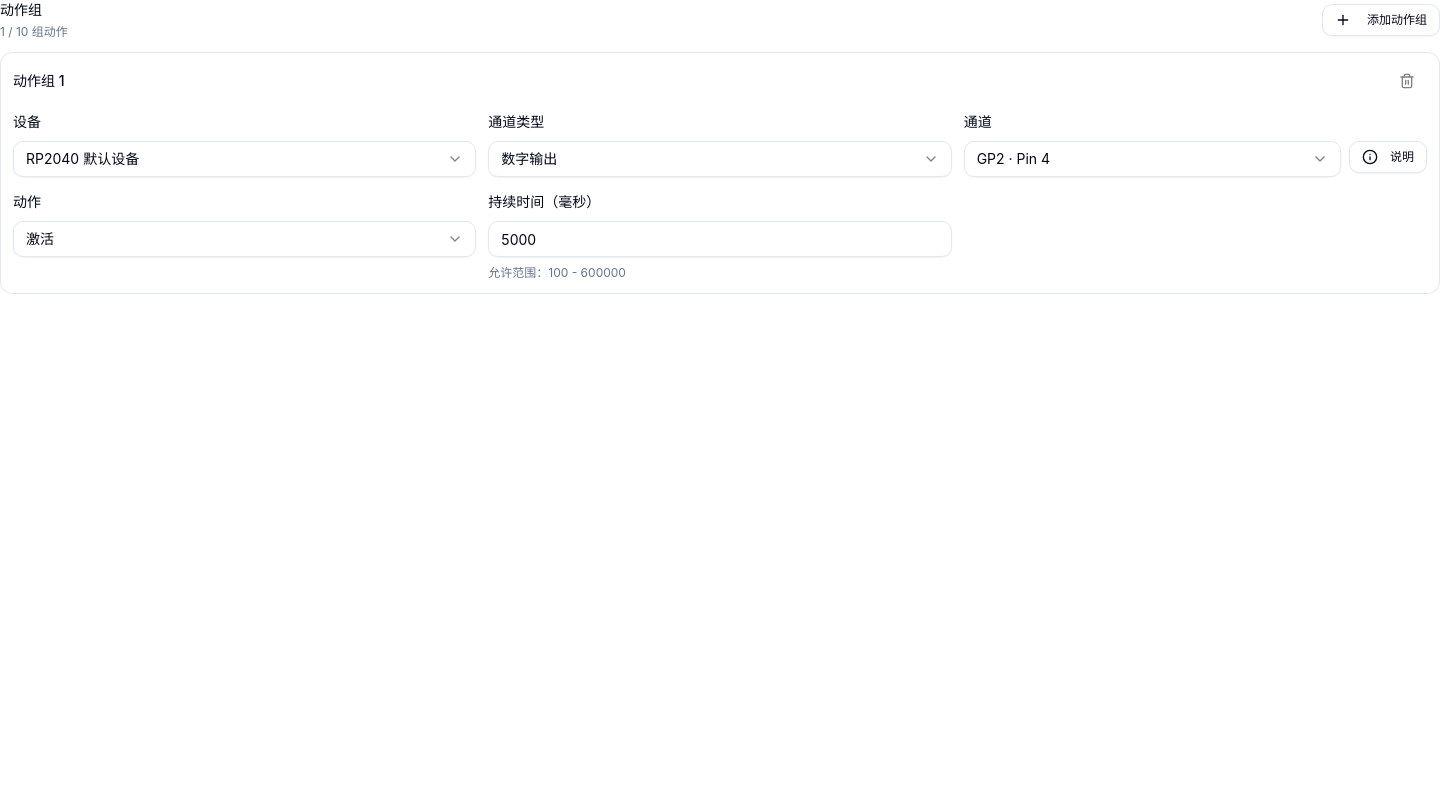
Test: DeviceChannelOutputFields › opens hardware guide for selected rule channel
The image size is (1440, 810).
Click the button with aria-label "查看 GP2 · Pin 4 连接说明". click: (1388, 157)
box: [1349,141,1427,173]
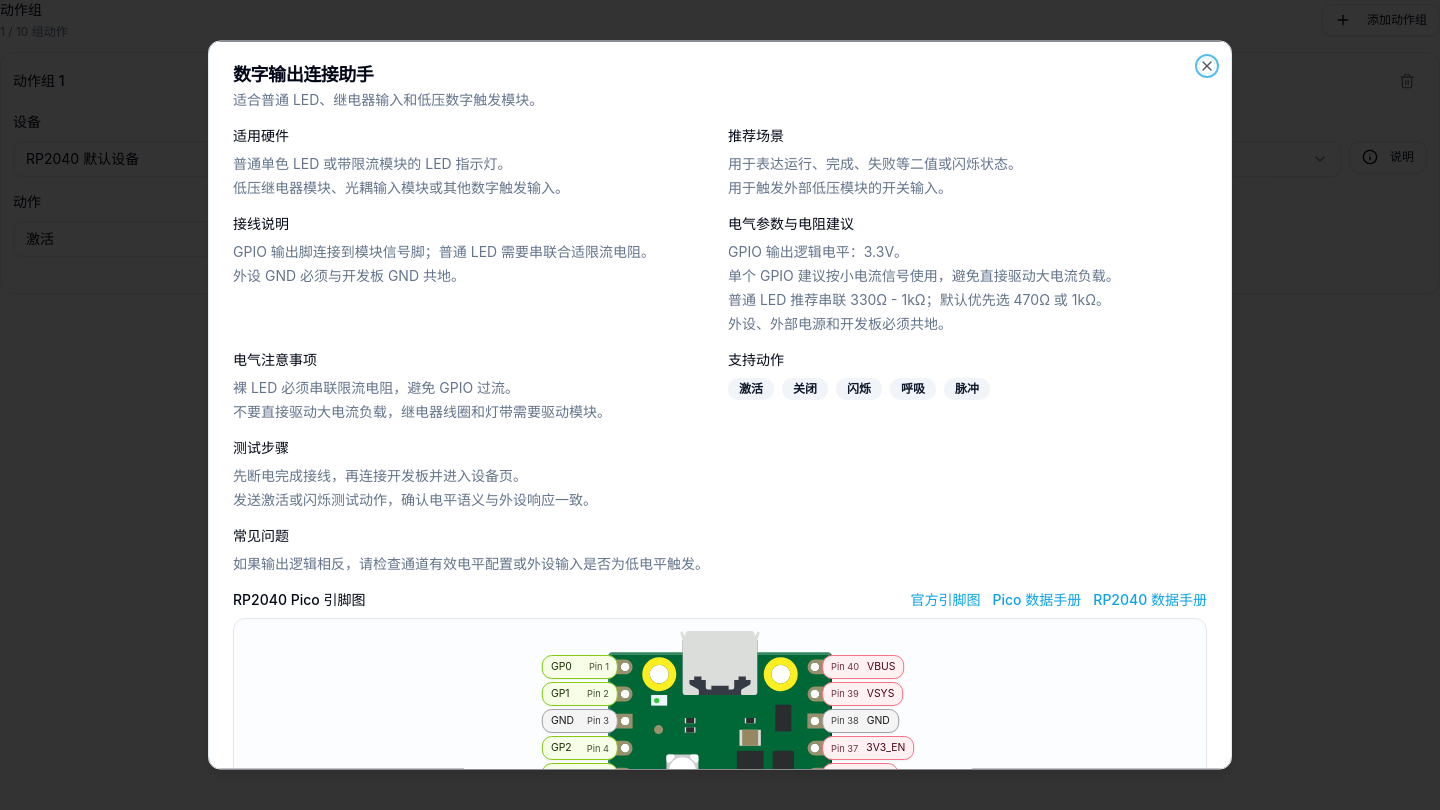
Expected: the dialog "数字输出连接助手" is shown
Expected: the text "适合普通 LED、继电器输入和低压数字触发模块。" is shown, [233,90,543,108]
